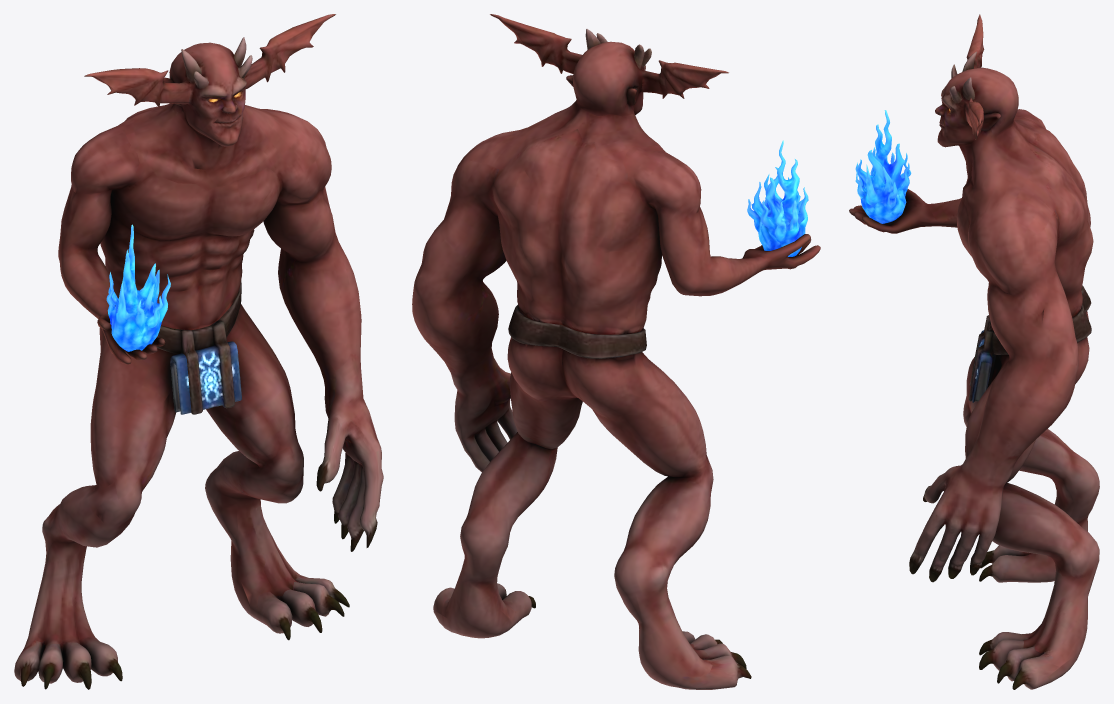
The model's file is MZ4250 - Yagnoloth.glb.
3 renders of one model, left to right at view 1: azimuth 30°, elevation 25°; view 2: azimuth 150°, elevation 25°; view 3: azimuth 270°, elevation 25°, orthographic. The views are drawn at different scales.
Parts seen in each view (by area): view 1: Fire.001; view 2: Fire.001; view 3: Fire.001.
Part boxes in pixels (<box>): Fire.001: <box>14,14,383,689</box>; Fire.001: <box>412,14,820,689</box>; Fire.001: <box>849,14,1099,689</box>.
Size of the model in its own units: 1.03 by 1.8 by 0.7305.
1 material, 1 textured.
